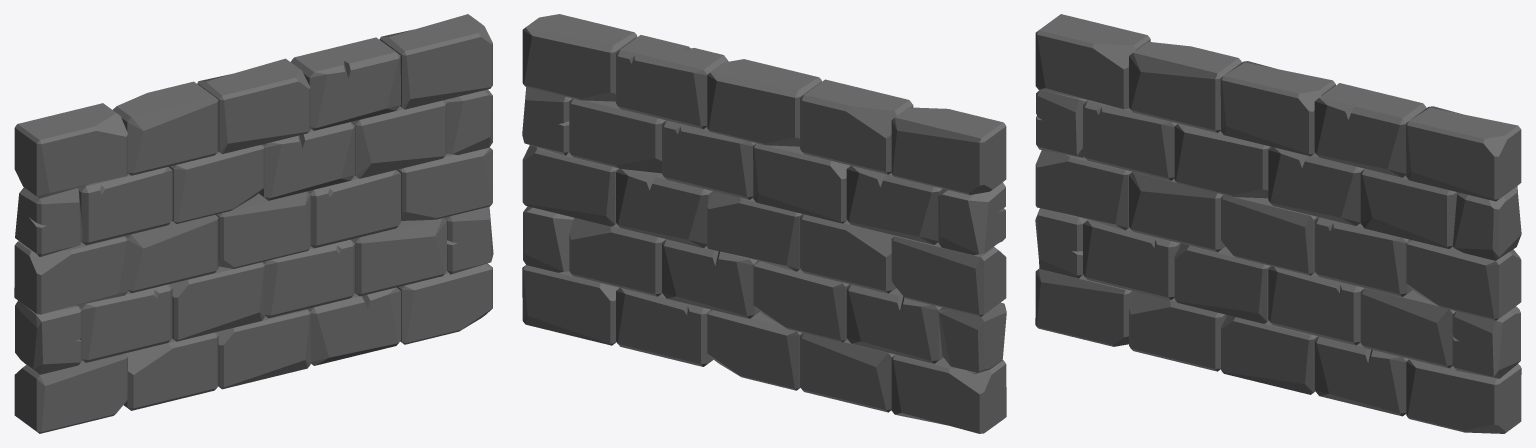
Rendered from Wall.gltf.
3 renders of one model, left to right at view 1: azimuth 30°, elevation 25°; view 2: azimuth 150°, elevation 25°; view 3: azimuth 330°, elevation 25°, orthographic.
Parts seen in each view (by area): view 1: Wall; view 2: Wall; view 3: Wall.
Part boxes in pixels (<box>): Wall: <box>14,14,493,433</box>; Wall: <box>522,14,1006,433</box>; Wall: <box>1035,14,1521,433</box>.
Bounding box in the file's own units: 2.6 × 1.6 × 0.2558.
1 material, 1 textured.
